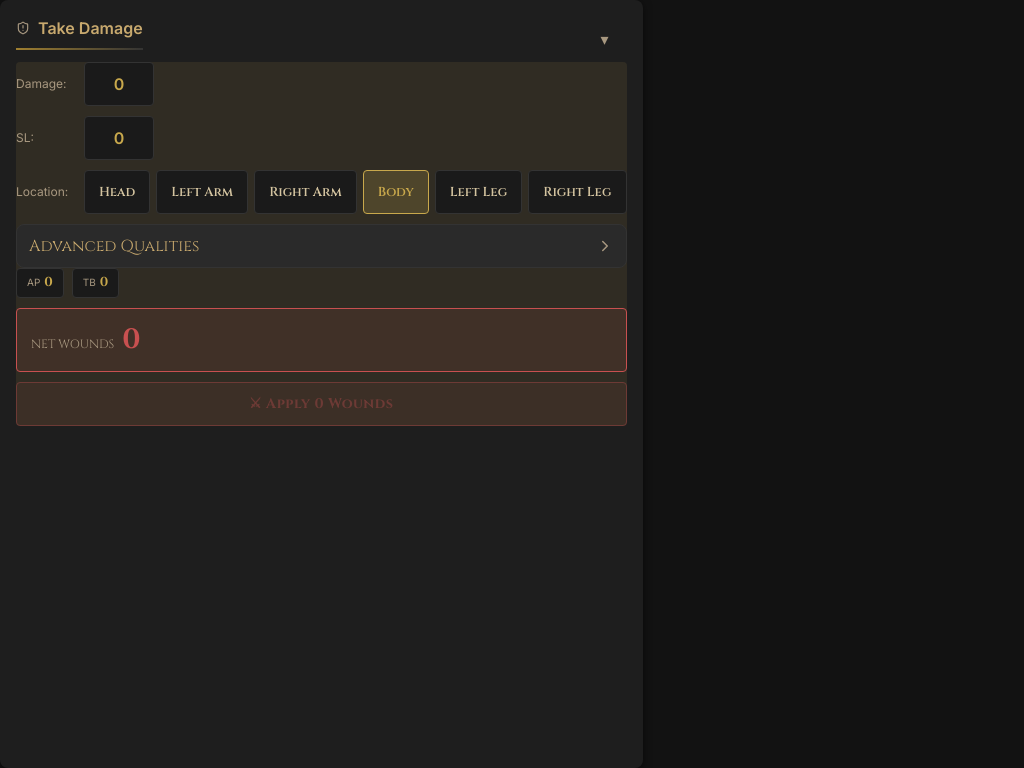
Test case: Integration: TakeDamagePanel Critical Wound flow › Critical wound triggered with excess >= TB → no modifier › shows no modifier when TB is 0 and excess is 0
Step 1. Replace the text in the number field named "Incoming damage" with "5" → coordinates (119, 84), box [84,62,154,106]
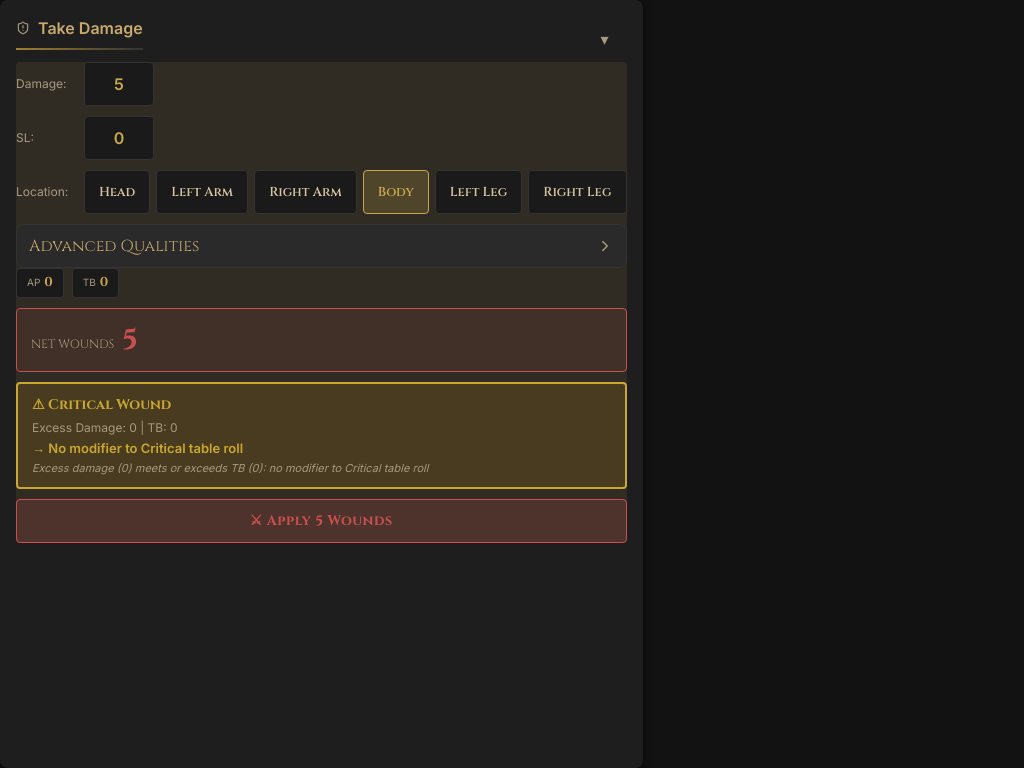
Expected: the message with test id "critical-wound-notification" shows "Excess Damage: 0", [16,382,626,488]
Expected: the message with test id "critical-wound-notification" shows "TB: 0", [16,382,626,488]
Expected: the message with test id "critical-wound-notification" shows "No modifier to Critical table roll", [32,440,243,456]
